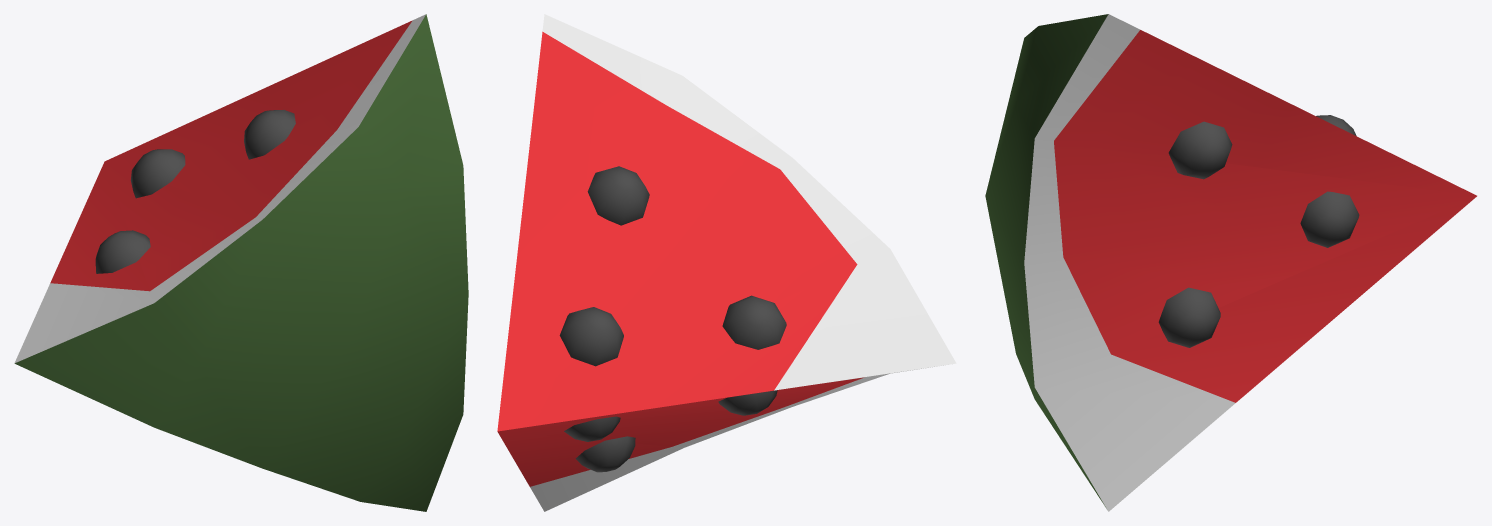
3 views of the same model, side by side, from view 1: azimuth 30°, elevation 25°; view 2: azimuth 150°, elevation 25°; view 3: azimuth 270°, elevation 25° (orthographic).
Visible parts, largest first — view 1: Object_17.002; view 2: Object_17.002; view 3: Object_17.002.
Boxes of the visible parts, x1,y1,x2,y2 form: Object_17.002: (14, 14, 468, 511); Object_17.002: (497, 14, 956, 511); Object_17.002: (985, 14, 1476, 511).
Bounding box in the file's own units: 266 × 308 × 276.
